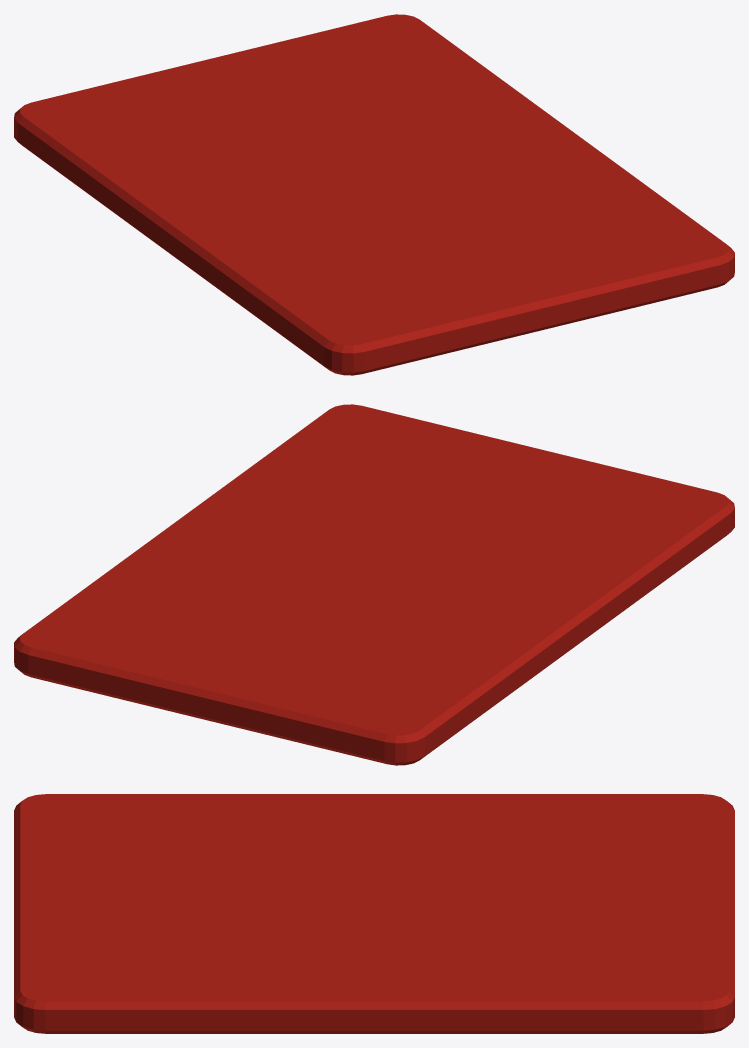
Rendered from Roof_Panel.obj.
3 renders of one model, top to bottom at view 1: azimuth 30°, elevation 25°; view 2: azimuth 150°, elevation 25°; view 3: azimuth 270°, elevation 25°, orthographic. The views are drawn at different scales.
Visible parts, largest first — view 1: Roof_Panel; view 2: Roof_Panel; view 3: Roof_Panel.
Boxes of the visible parts, <box> form: Roof_Panel: <box>14,14,734,375</box>; Roof_Panel: <box>14,404,734,765</box>; Roof_Panel: <box>14,794,734,1033</box>.
Size of the model in its own units: 2.55 by 0.18 by 3.65.
